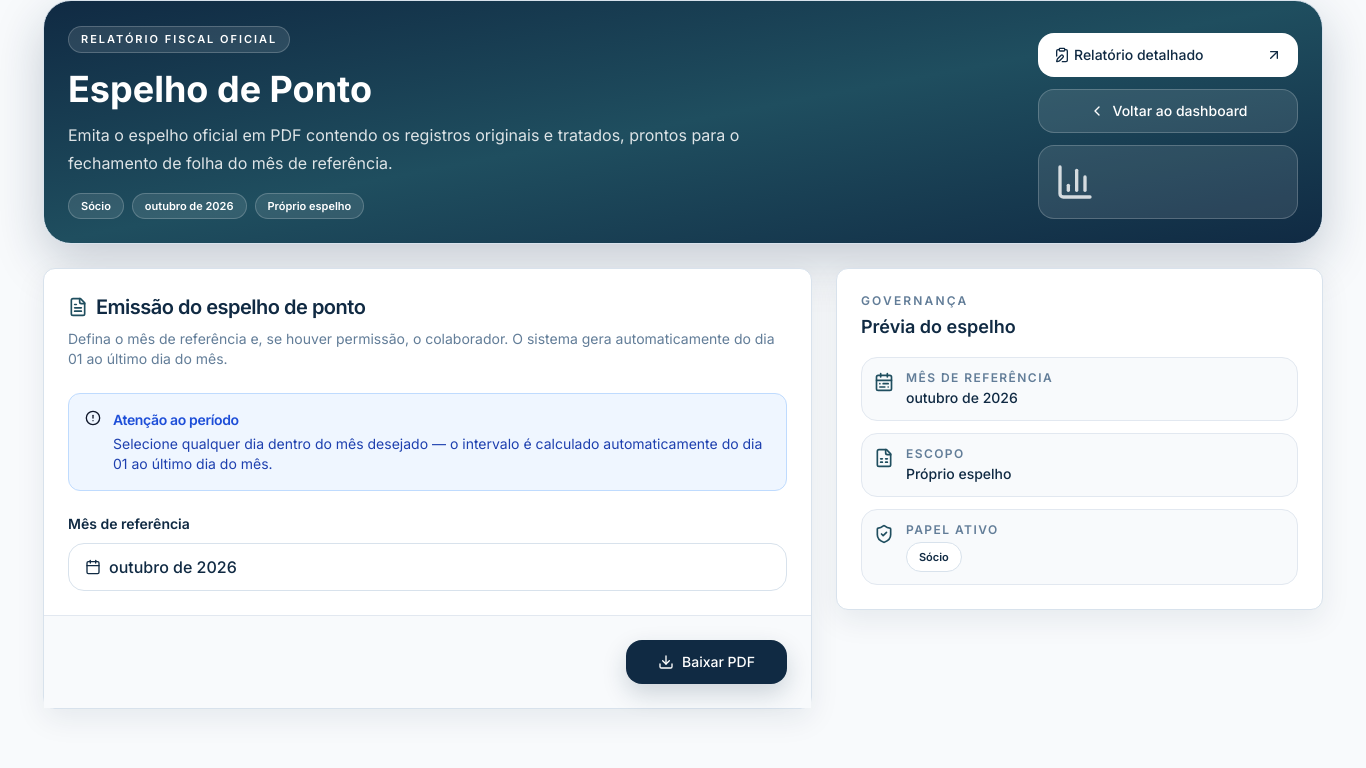
Test: EspelhoPonto › desabilita o botão durante o download e bloqueia duplo clique
The width and height of the screenshot is (1366, 768).
Click the button "Baixar PDF": click(707, 662) [626,640,787,684]
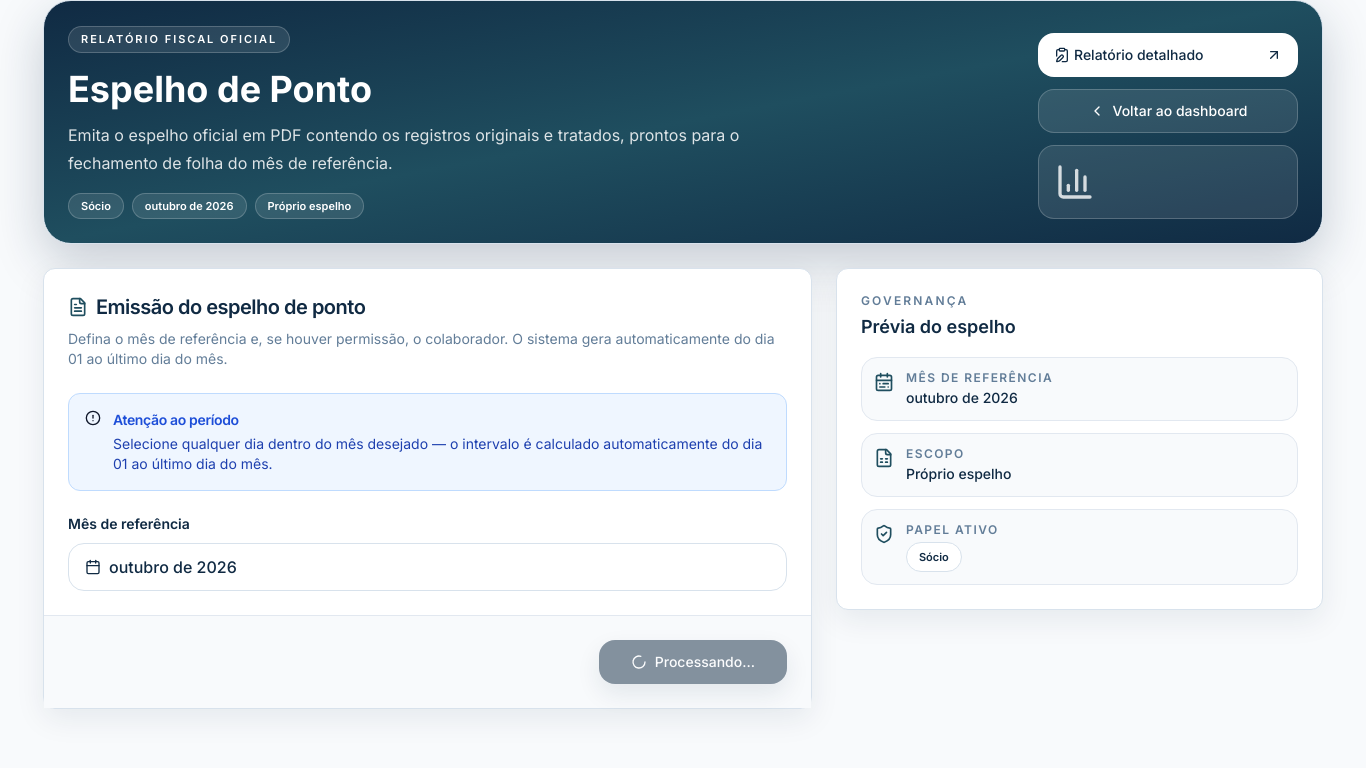
Now the button "Processando..." is disabled
Click the button "Processando...": click(693, 662) [599,640,787,684]
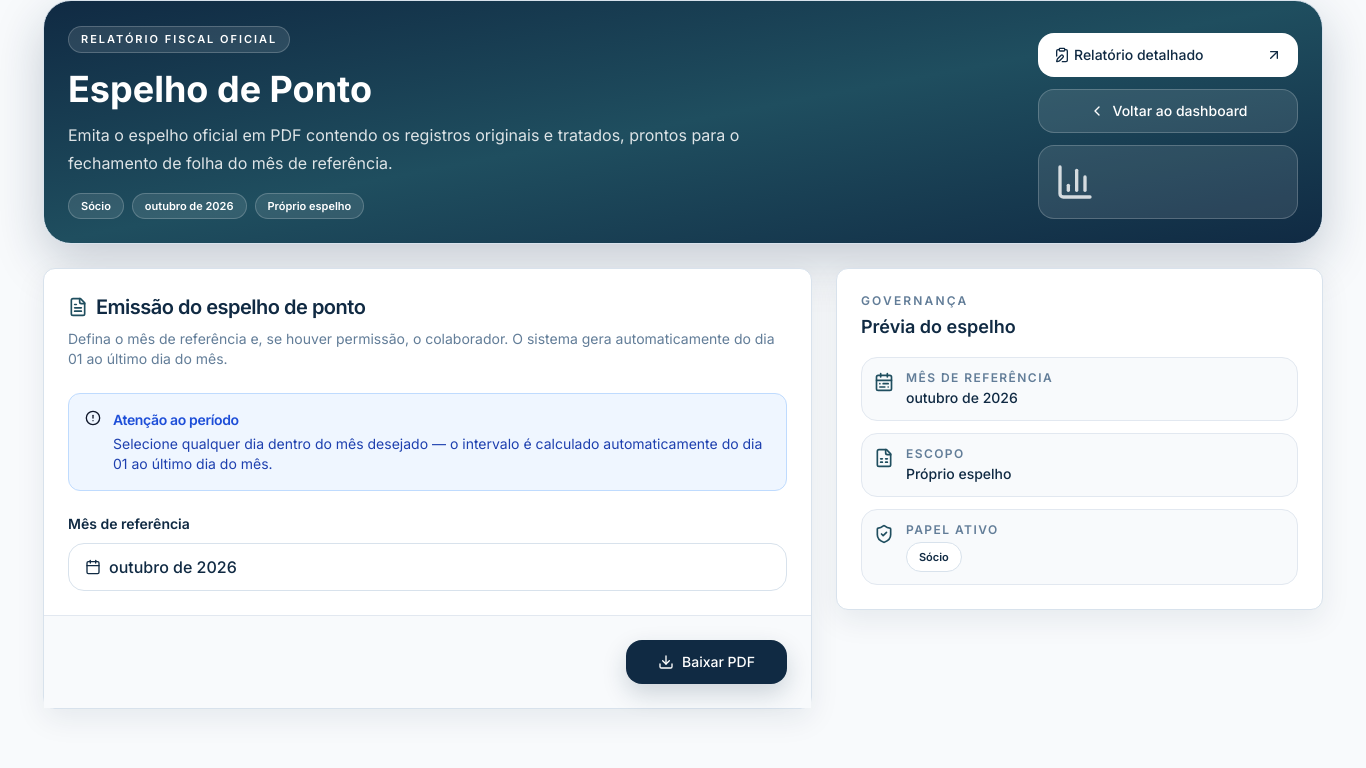
Now the button "Baixar PDF" is enabled, box [626,640,787,684]
